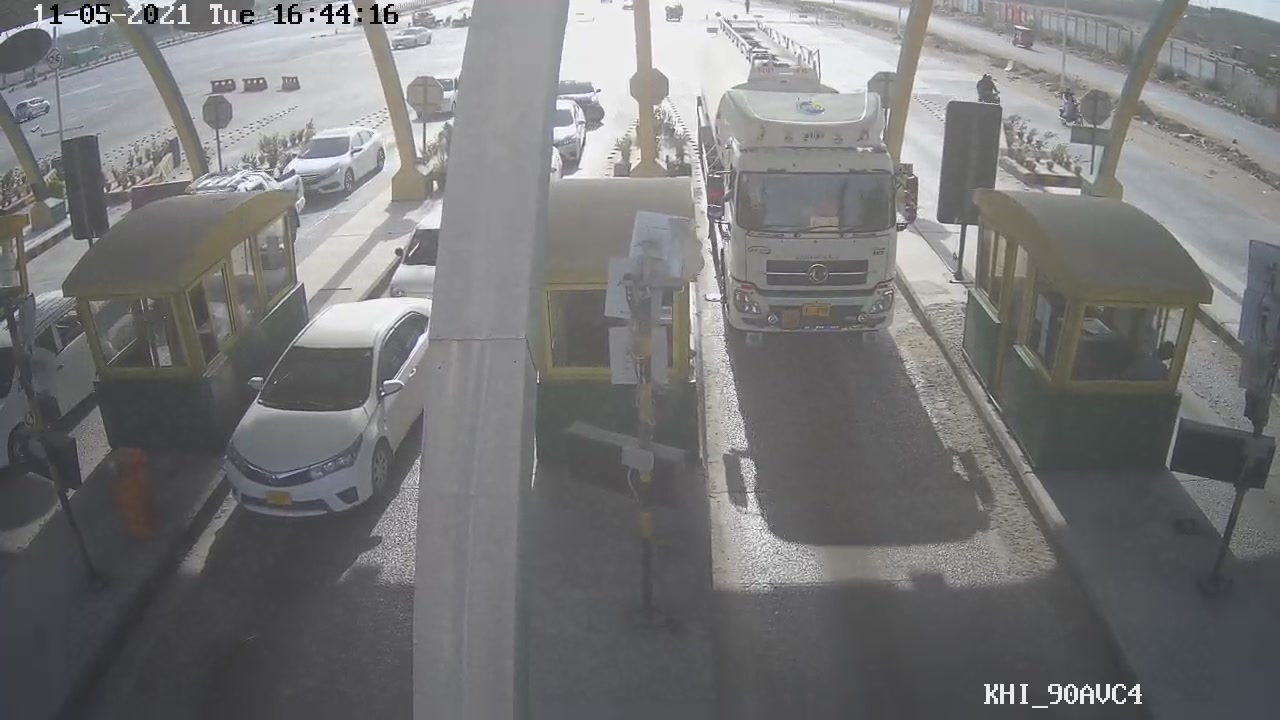F6: (683, 5, 931, 358)
